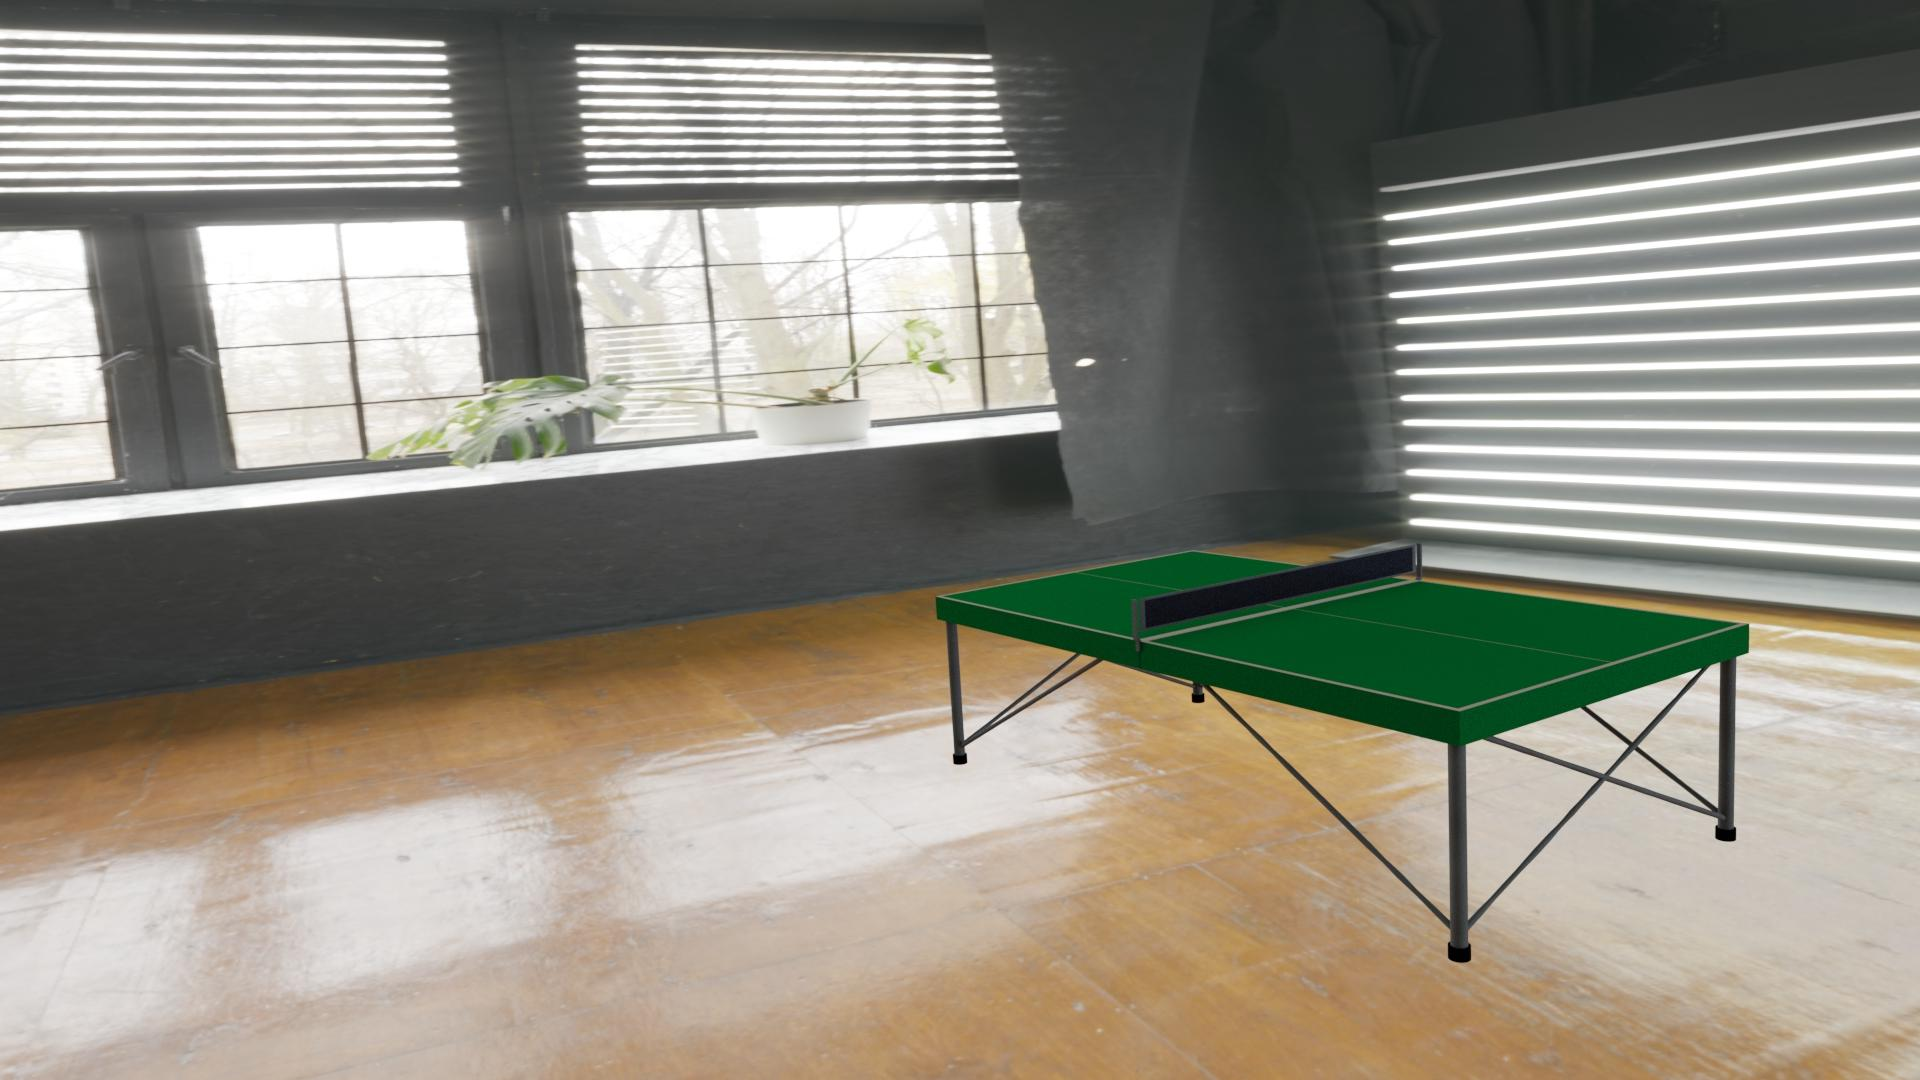table: (942, 551, 1741, 708)
